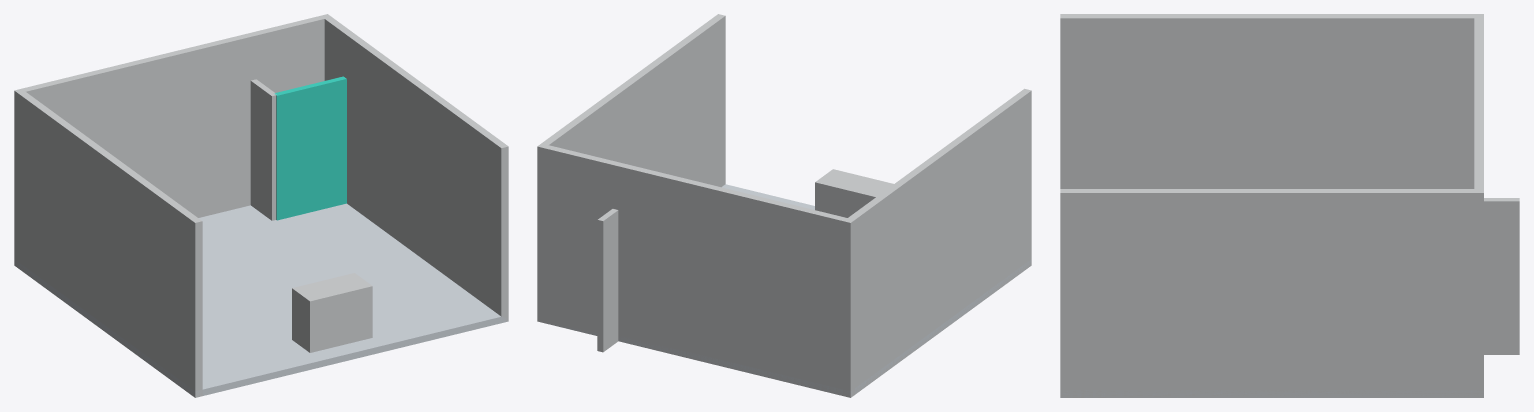
The picture shows the model from 3 angles, left to right: view 1: azimuth 30°, elevation 25°; view 2: azimuth 150°, elevation 25°; view 3: azimuth 270°, elevation 25°; orthographic projection. The views are drawn at different scales.
Visible parts, largest first — view 1: Exhibition Booth Concept; view 2: Exhibition Booth Concept; view 3: Exhibition Booth Concept.
Boxes of the visible parts, x1=… form: Exhibition Booth Concept: x1=14, y1=14, x2=508, y2=397; Exhibition Booth Concept: x1=537, y1=14, x2=1031, y2=397; Exhibition Booth Concept: x1=1060, y1=14, x2=1519, y2=397.
Size of the model in its own units: 6 by 3.2 by 6.51.
